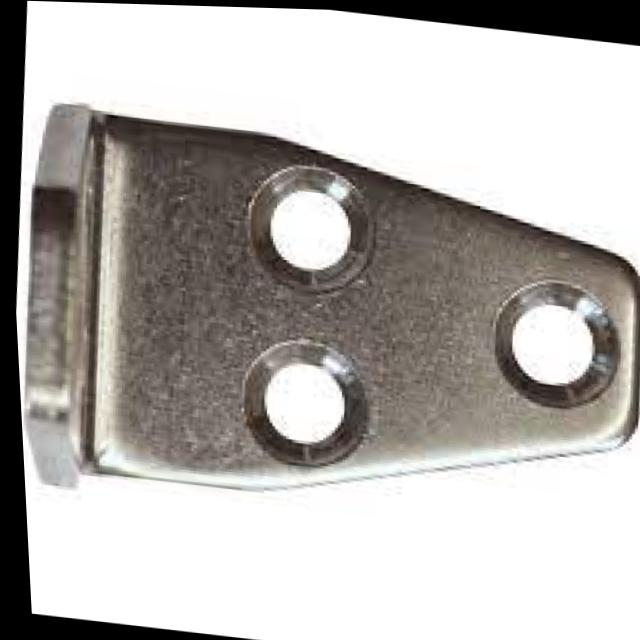holes: (242, 157, 376, 302), (237, 330, 371, 474), (488, 270, 619, 414)
